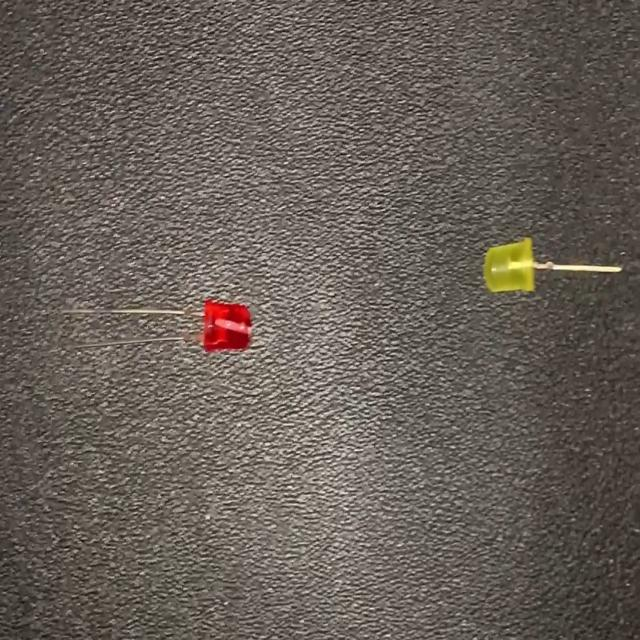LED: (60, 296, 256, 362)
missing-leg: (482, 233, 625, 295)
